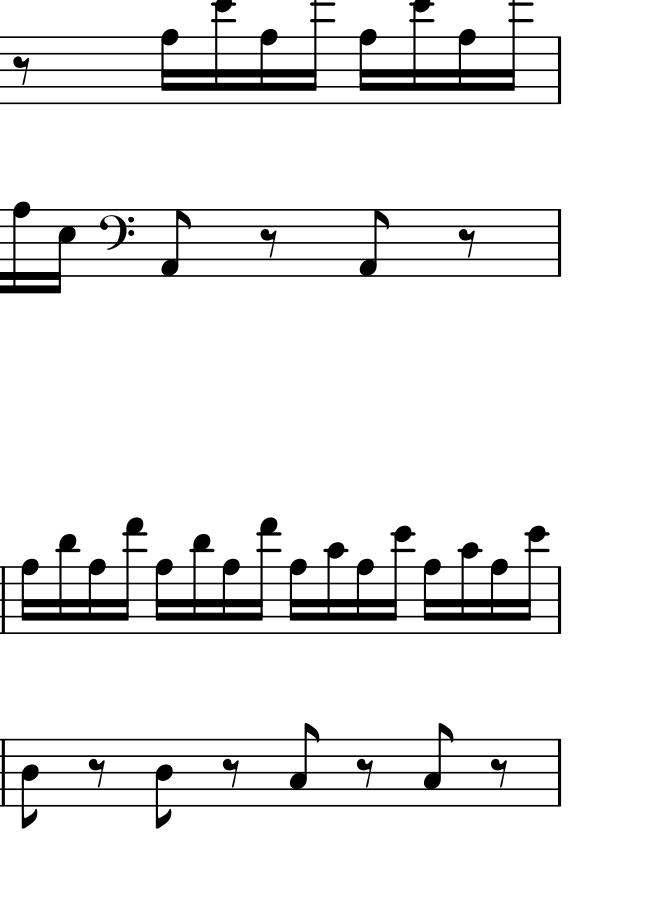16_10: (323, 541, 350, 635), (457, 541, 483, 636)
16_11: (54, 532, 79, 635), (189, 532, 213, 636)
16_12: (518, 525, 550, 636), (385, 525, 416, 636)
16_13: (252, 516, 281, 635), (118, 517, 147, 635)
16_5: (48, 207, 77, 296)
16_8: (10, 200, 31, 296), (257, 27, 280, 107), (85, 557, 108, 636), (219, 557, 242, 636), (487, 558, 510, 637), (157, 28, 180, 106), (455, 28, 478, 106), (152, 558, 175, 636), (354, 556, 376, 636), (287, 557, 309, 636), (421, 557, 443, 636), (356, 28, 378, 106), (18, 558, 39, 636)
8_1: (356, 208, 391, 278), (158, 208, 192, 278)
8_3: (288, 722, 321, 808), (422, 722, 455, 808)
8_4: (18, 737, 39, 830), (153, 738, 174, 831)
Fclef: (97, 207, 136, 277)
Rests8: (488, 757, 512, 792), (456, 226, 480, 260), (258, 226, 281, 260), (86, 756, 109, 790), (11, 54, 33, 87), (354, 756, 375, 789), (220, 756, 241, 788)
Single_barline: (551, 37, 567, 103), (551, 210, 567, 275), (552, 567, 567, 634), (552, 740, 567, 806)
